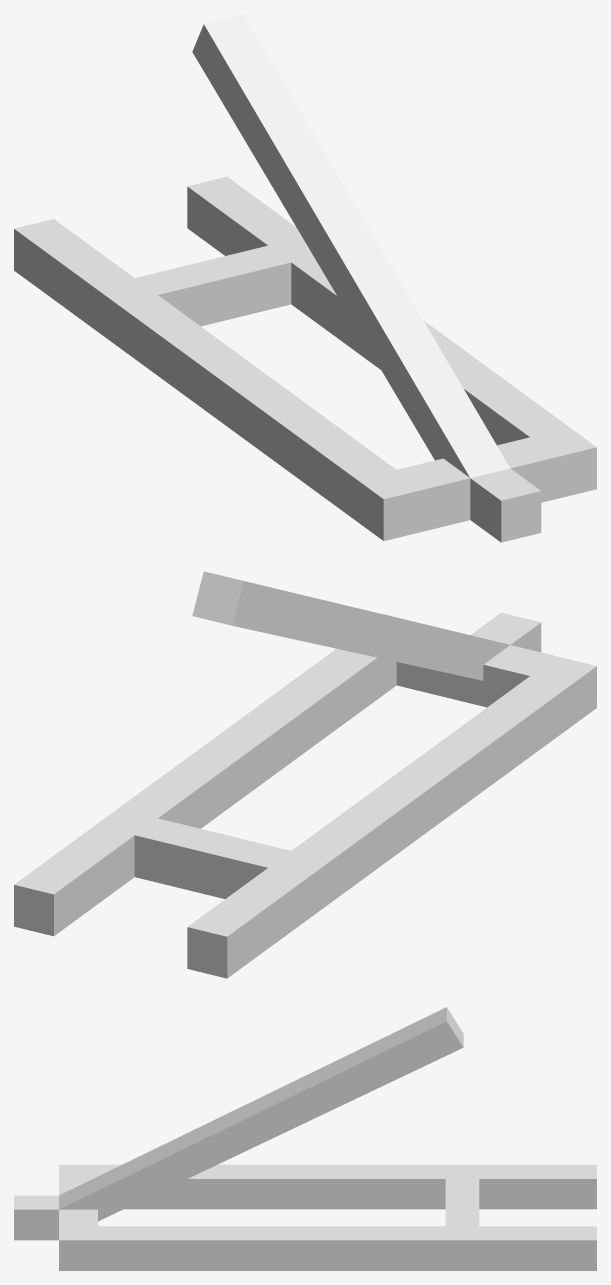
The model's file is Light3.obj.
3 views of the same model, one above another, from view 1: azimuth 30°, elevation 25°; view 2: azimuth 150°, elevation 25°; view 3: azimuth 270°, elevation 25° (orthographic). The views are drawn at different scales.
Bounding box in the file's own units: 0.9987 × 1.35 × 3.25.
